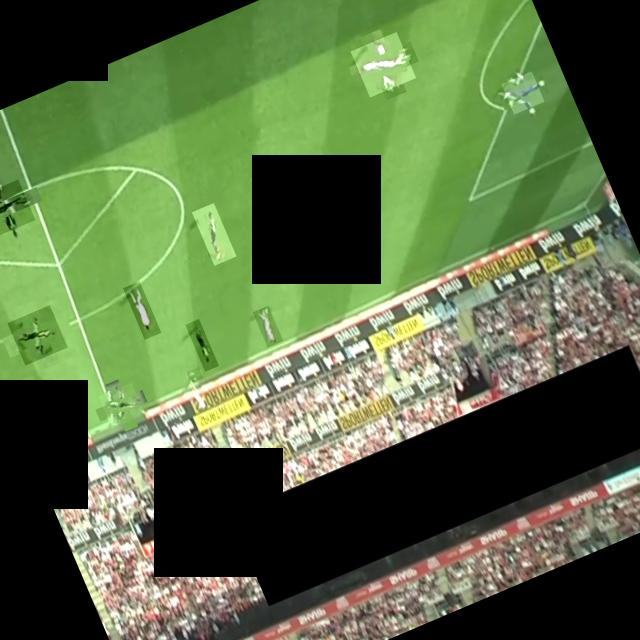ball: (185, 366, 202, 382)
goalkeeper: (500, 70, 543, 113)
soccer-player: (348, 30, 414, 96), (6, 304, 66, 364), (190, 201, 235, 264), (96, 382, 144, 428), (122, 280, 160, 338), (0, 178, 34, 236), (184, 318, 218, 370), (16, 373, 48, 421), (252, 304, 282, 346)
